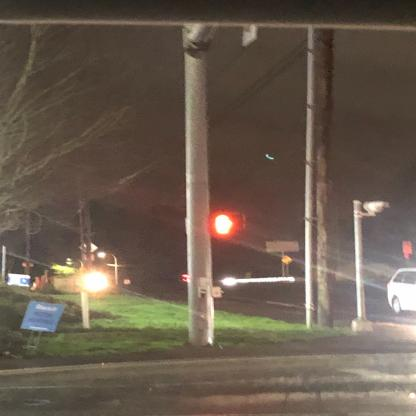Don-t Walk: (211, 212, 237, 234)
